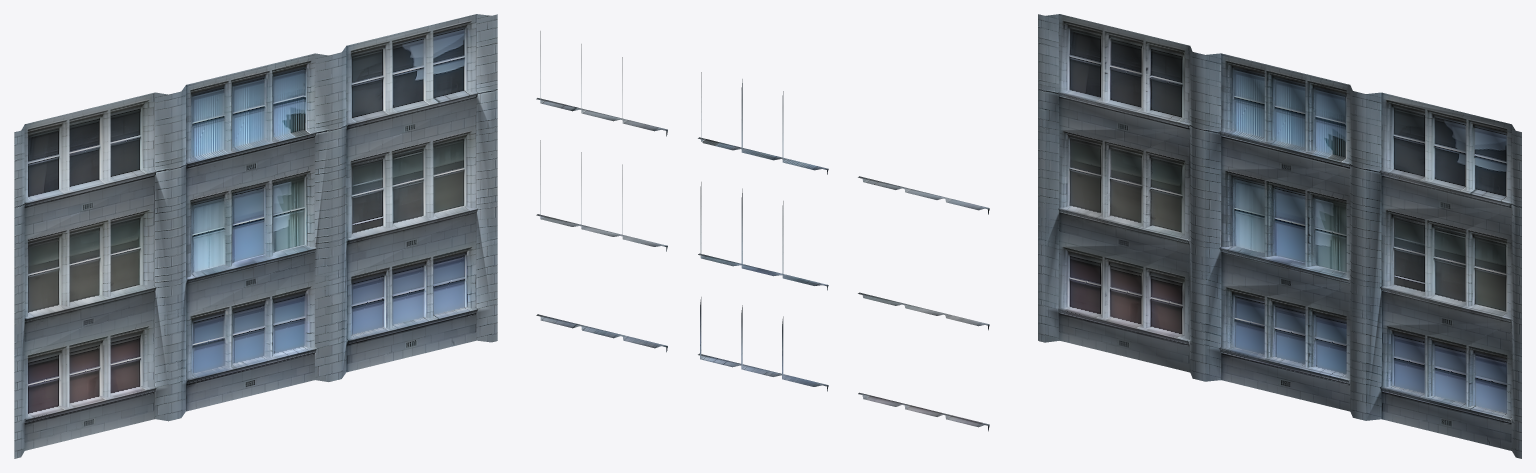
The model's file is building_l2.glb.
3 views of the same model, side by side, from view 1: azimuth 30°, elevation 25°; view 2: azimuth 150°, elevation 25°; view 3: azimuth 330°, elevation 25° (orthographic).
Visible parts, largest first — view 1: building_l2; view 2: building_l2; view 3: building_l2.
Part boxes in pixels (box(x1,y1,x2,y2)): building_l2: box(14, 14, 497, 458); building_l2: box(536, 31, 989, 431); building_l2: box(1038, 14, 1521, 458).
Size of the model in its own units: 5 by 3.23 by 0.1611.
Materials: 2 (2 with a texture image).
